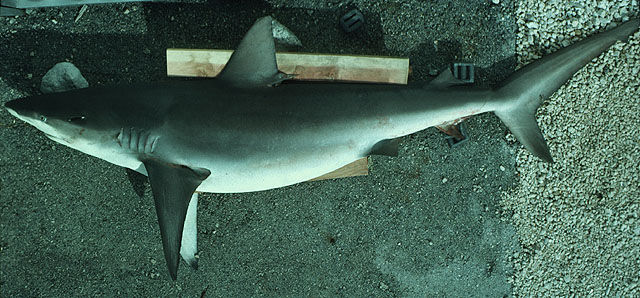fish: (3, 16, 639, 285)
